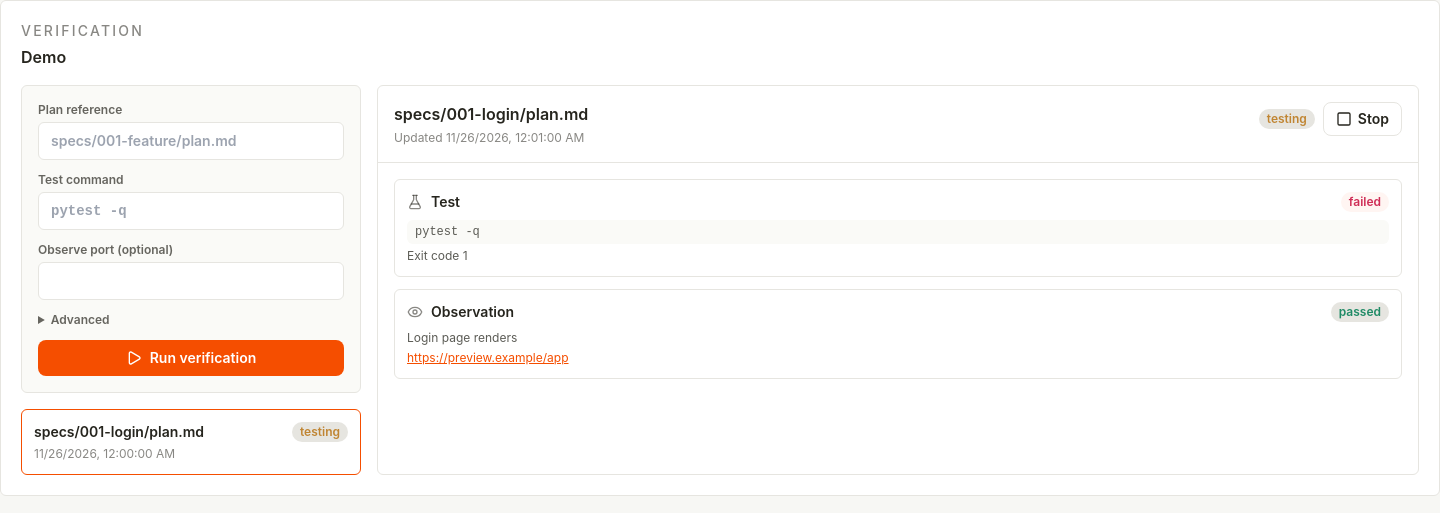
Test: VerificationPanel › stops an in-flight run
Click the button "Stop".
click(1362, 119)  # box left=1323, top=102, right=1402, bottom=136
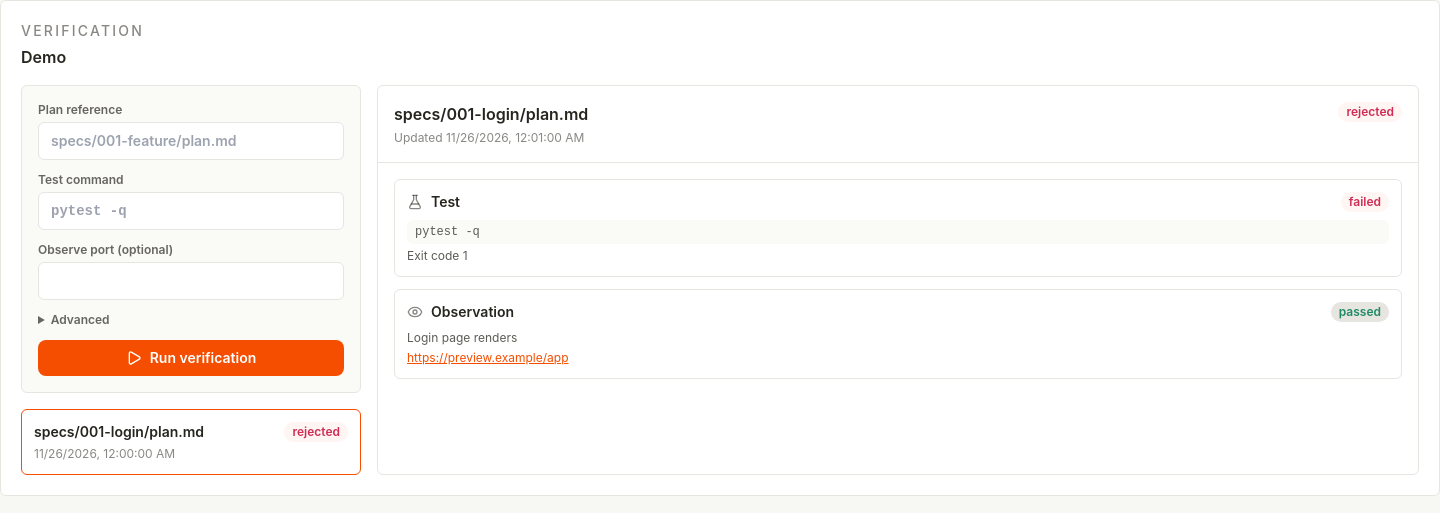
Expected: the button "Stop" is gone
Expected: the text "rejected" below "Advanced" is shown, left=292, top=424, right=340, bottom=439
